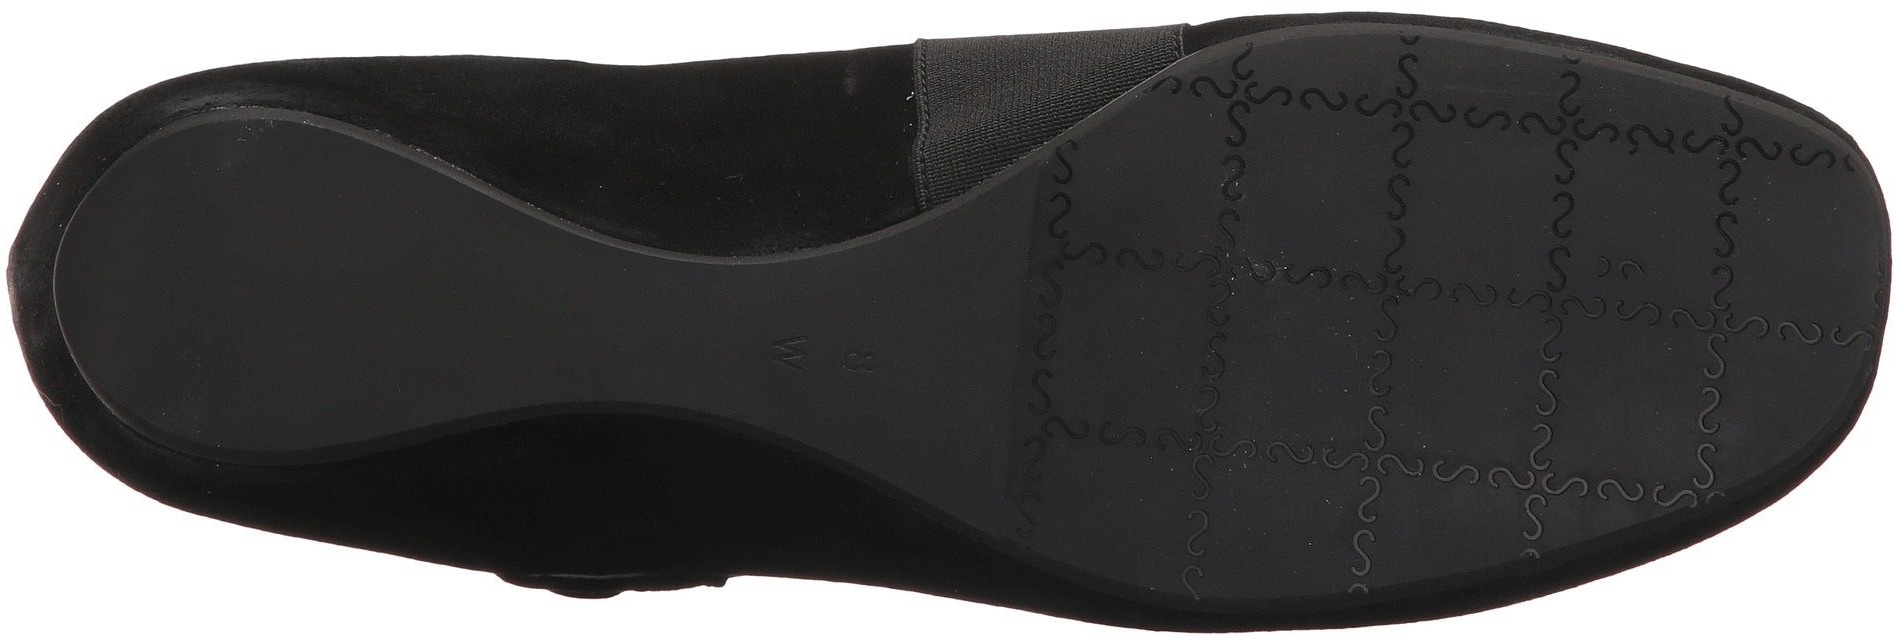other: (125, 164, 395, 425), (447, 252, 594, 409)
quad: (1008, 239, 1265, 461), (1526, 283, 1741, 519)
text: (1008, 239, 1265, 461), (1526, 283, 1741, 519), (1372, 112, 1444, 281), (756, 324, 891, 395)
